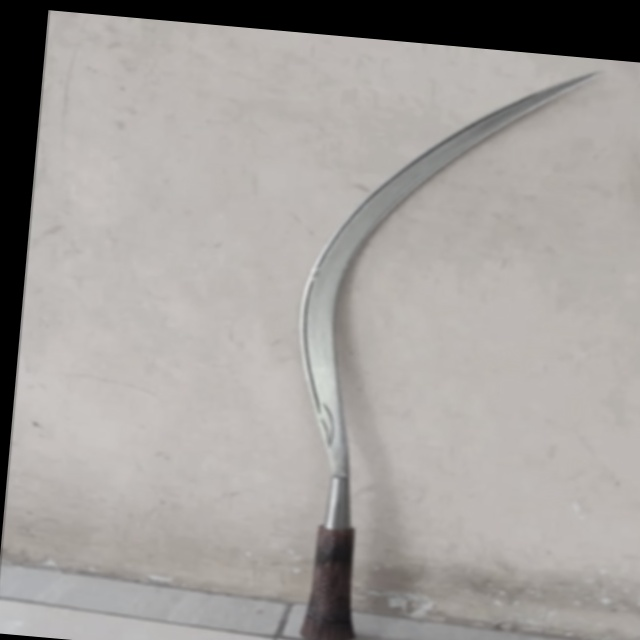Sharp-Object: (268, 43, 610, 640)
